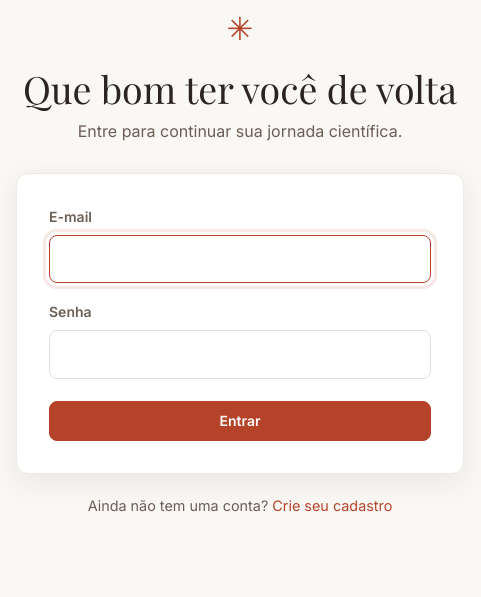
Test: tela de login › apresenta erros recuperáveis de credenciais sem expor erro técnico
Step 1. Type "ada@example.com" into the field labelled "E-mail" → (240, 259), box [49,235,431,283]
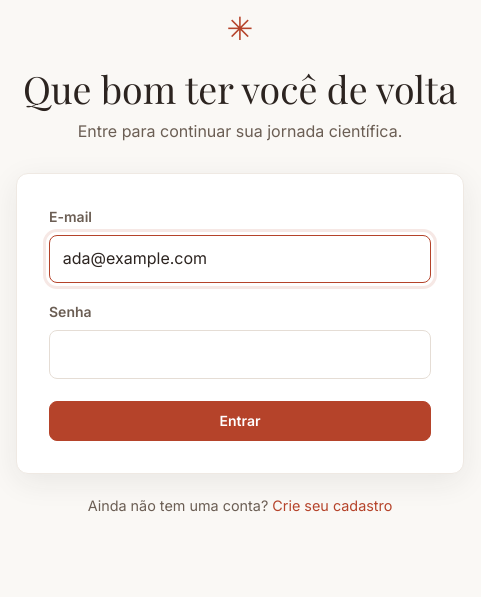
Step 2. Type "password" into the password field labelled "Senha" → (240, 354), box [49,330,431,379]
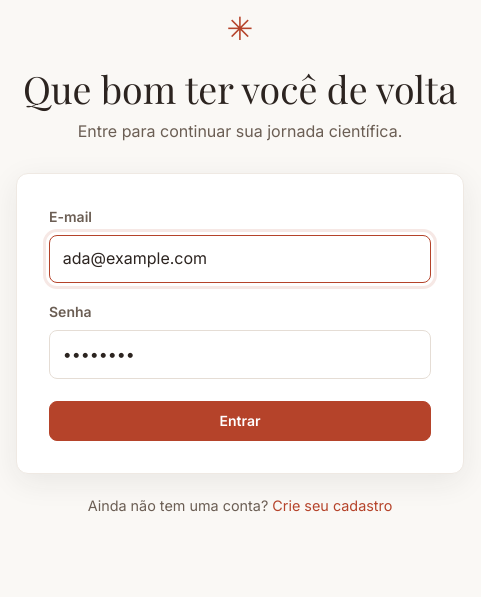
Step 3. Click the button "Entrar" → (240, 421), box [49,401,431,441]
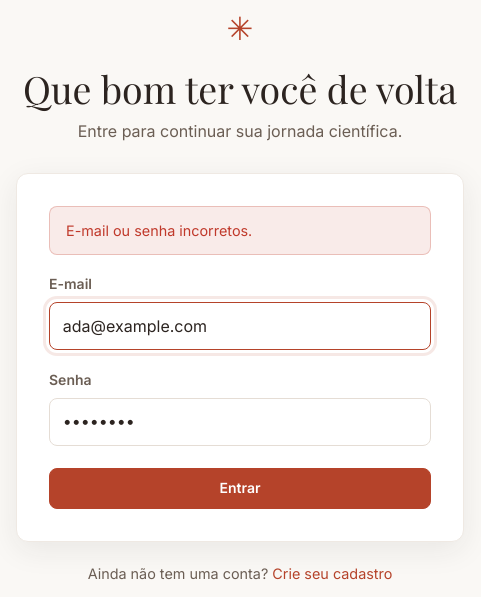
Now the message reads "E-mail ou senha incorretos.", box [66,222,252,239]
